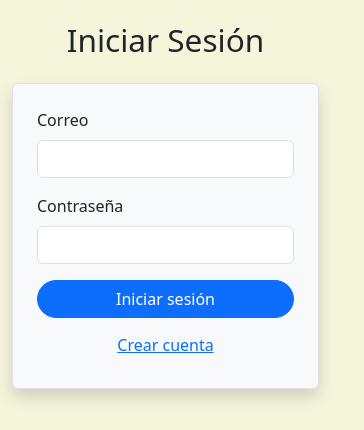
Test case: Componente Login › Muestra mensaje de error si el formato del correo no es valido
Step 1. Type "invalid-email" into the field labelled "Correo" → (166, 159), box [37,140,294,178]
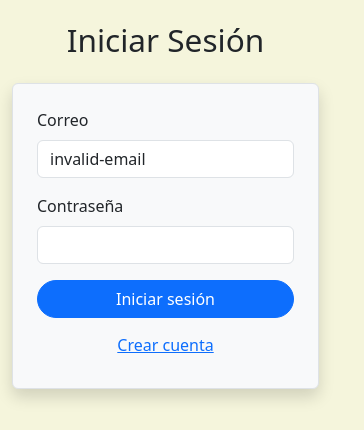
Step 2. Type "password123" into the password field labelled "Contraseña" → (166, 245), box [37,226,294,264]
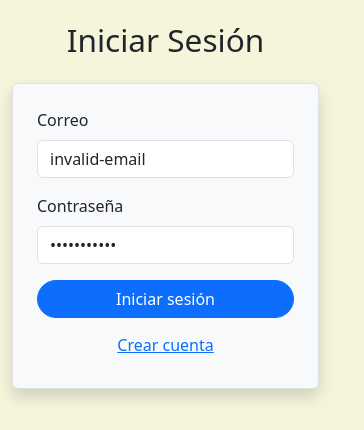
Step 3. Click the button "Iniciar sesión" → (166, 299), box [37,280,294,318]
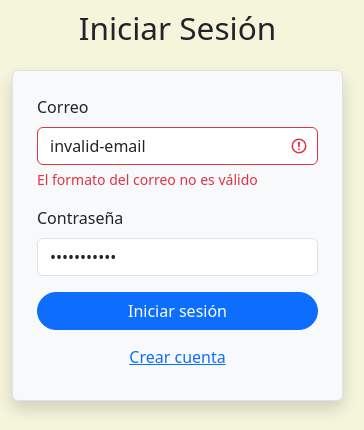
Check: the text "El formato del correo no es válido" is shown, box [37,170,258,189]
